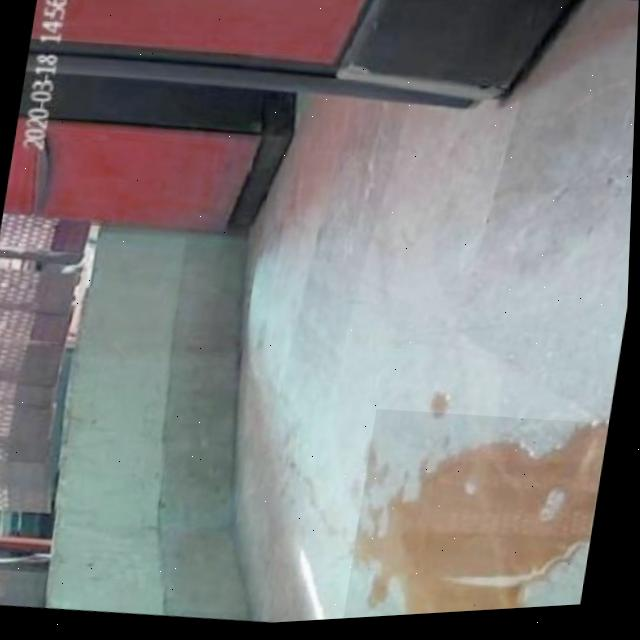spillage: (358, 430, 611, 620)
